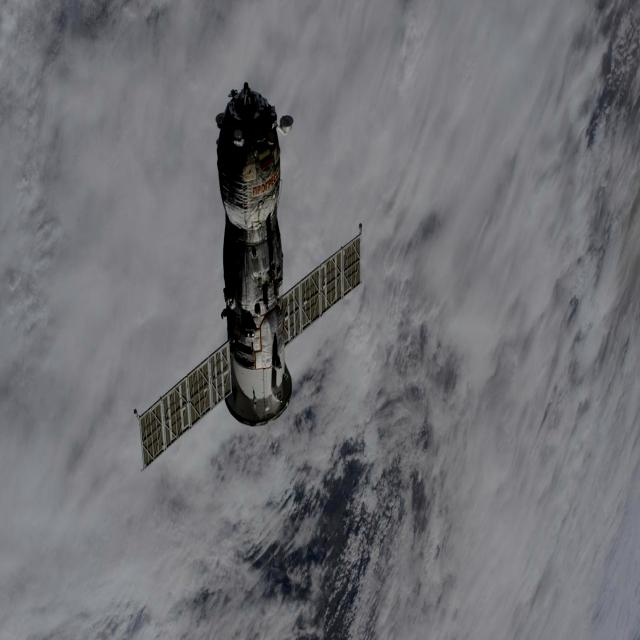satellite: (137, 82, 361, 468)
